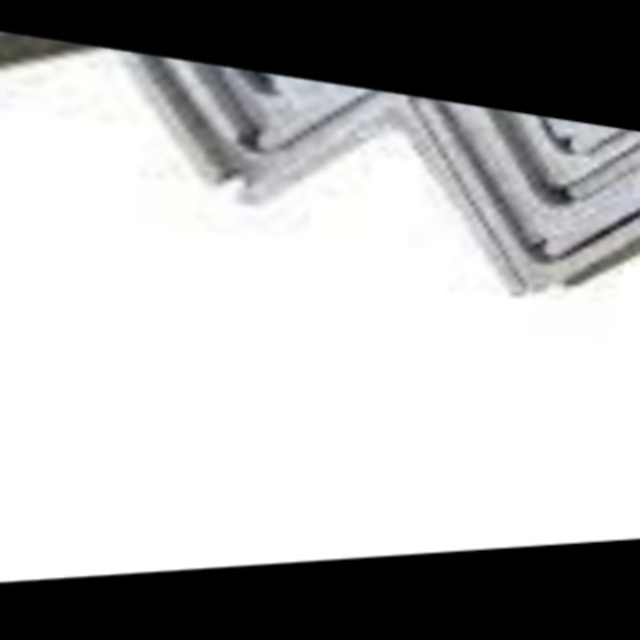Angle: (244, 98, 543, 286), (398, 108, 640, 286), (101, 50, 398, 181), (0, 23, 217, 173), (413, 100, 640, 242), (0, 23, 239, 130), (108, 50, 398, 128), (438, 102, 640, 196), (541, 154, 640, 339), (568, 125, 640, 266), (570, 123, 640, 213), (577, 123, 640, 171)
